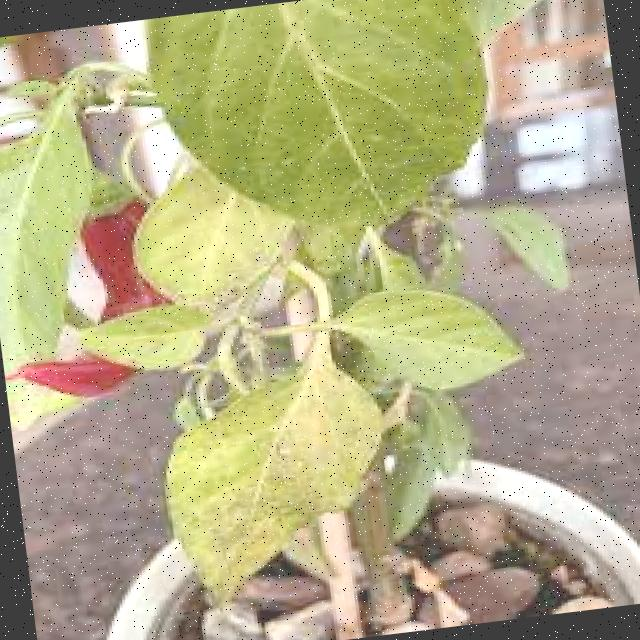yellow: (31, 0, 573, 628)
